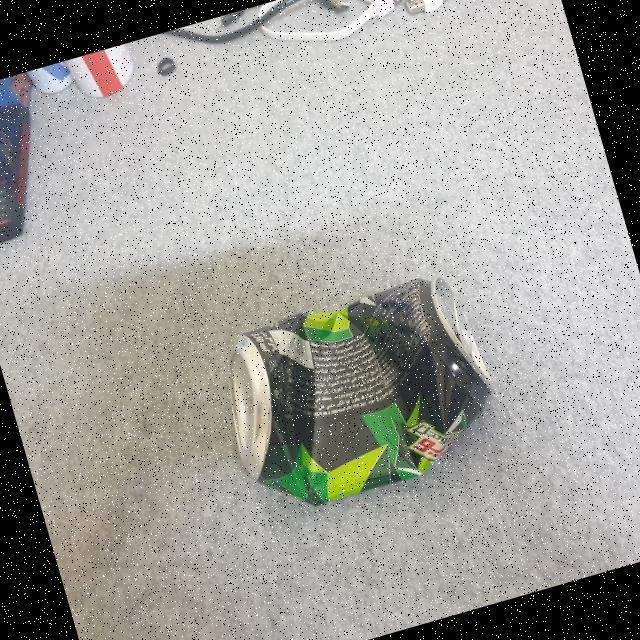can: (200, 251, 524, 539)
